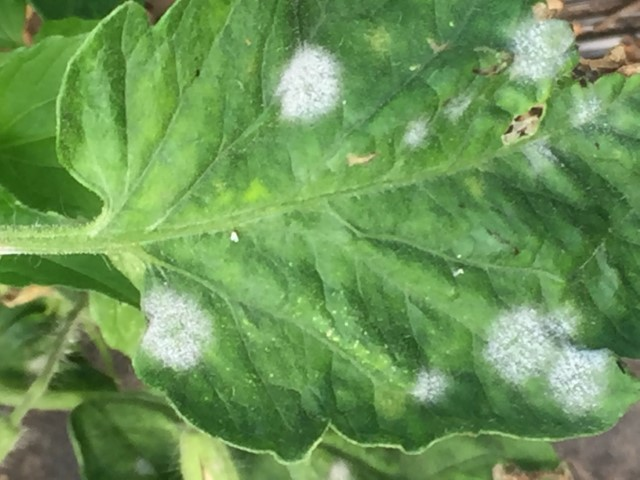oidio: (142, 287, 213, 372), (276, 42, 343, 123), (483, 307, 546, 389), (549, 344, 613, 420), (506, 18, 572, 81), (548, 305, 583, 342), (409, 372, 449, 404), (523, 135, 557, 168), (569, 98, 603, 129), (402, 120, 429, 150), (444, 96, 471, 123)
